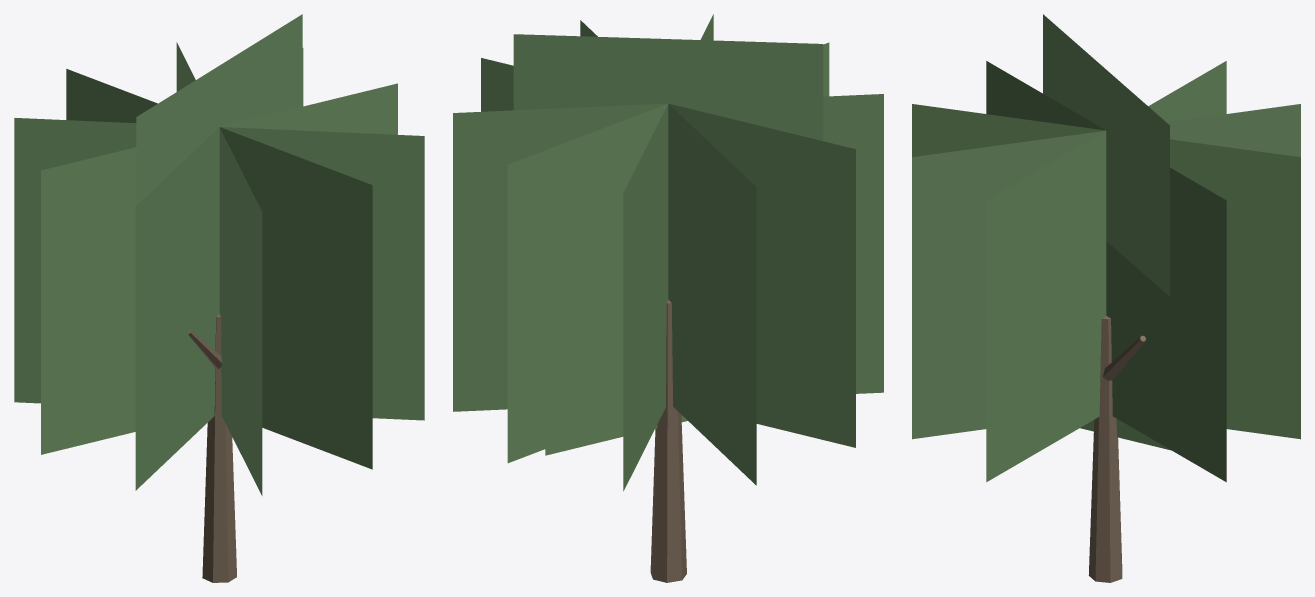
Rendered from tree-oval.glb.
3 views of the same model, side by side, from view 1: azimuth 30°, elevation 25°; view 2: azimuth 150°, elevation 25°; view 3: azimuth 270°, elevation 25° (orthographic). The views are drawn at different scales.
Visible parts, largest first — view 1: TreeOval; view 2: TreeOval; view 3: TreeOval.
Boxes of the visible parts, x1=… form: TreeOval: x1=14, y1=14, x2=424, y2=582; TreeOval: x1=453, y1=14, x2=883, y2=582; TreeOval: x1=912, y1=14, x2=1300, y2=582.
Size of the model in its own units: 1.34 by 1.83 by 1.27.
